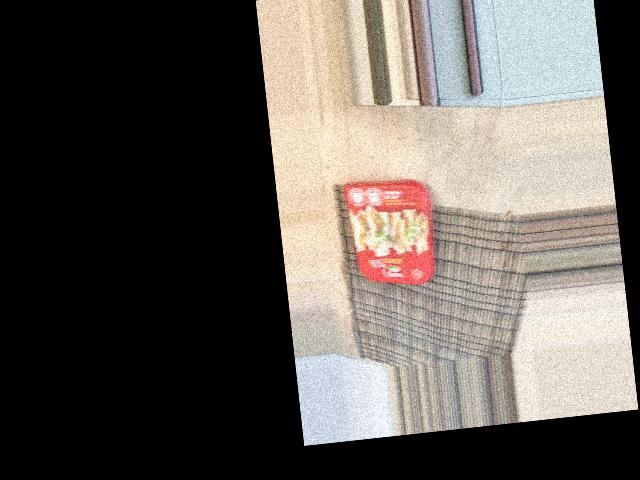cheese: (394, 173, 531, 277)
